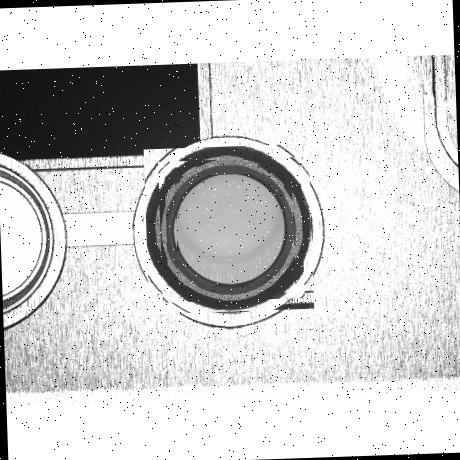Hole: (143, 144, 315, 314)
Hole2: (157, 156, 304, 304)
Hole3: (164, 163, 296, 297)
Hole4: (174, 172, 288, 286)
